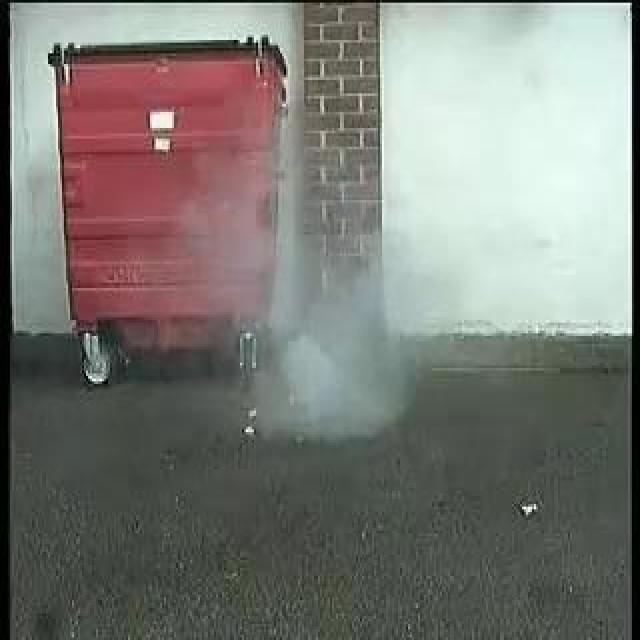Smoke: (272, 235, 420, 432)
